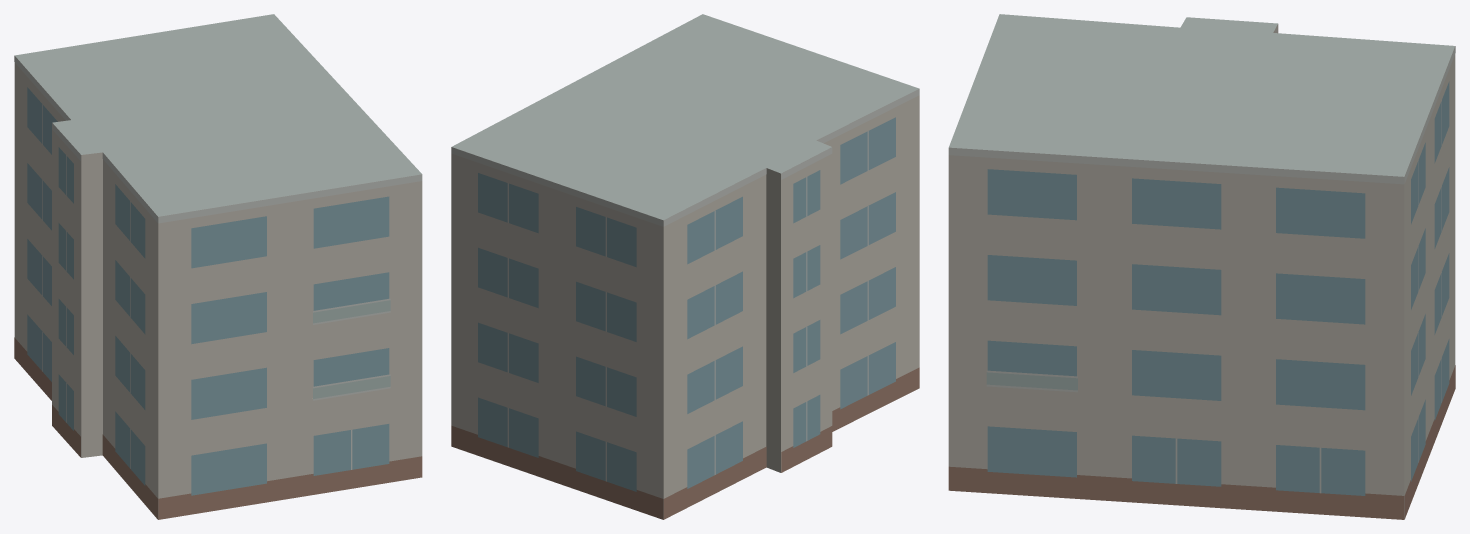
File: survey-upis-32607525.glb
The picture shows the model from 3 angles, left to right: view 1: azimuth 30°, elevation 25°; view 2: azimuth 150°, elevation 25°; view 3: azimuth 270°, elevation 25°; orthographic projection. The views are drawn at different scales.
Visible parts, largest first — view 1: survey-upis-32607525.tmp; view 2: survey-upis-32607525.tmp; view 3: survey-upis-32607525.tmp.
Part boxes in pixels (x1=…): survey-upis-32607525.tmp: x1=14, y1=14, x2=422, y2=519; survey-upis-32607525.tmp: x1=451, y1=14, x2=919, y2=519; survey-upis-32607525.tmp: x1=948, y1=14, x2=1455, y2=519.
Size of the model in its own units: 11.31 by 11.1 by 14.87.
